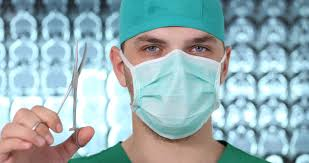surgical: (126, 51, 223, 139)
